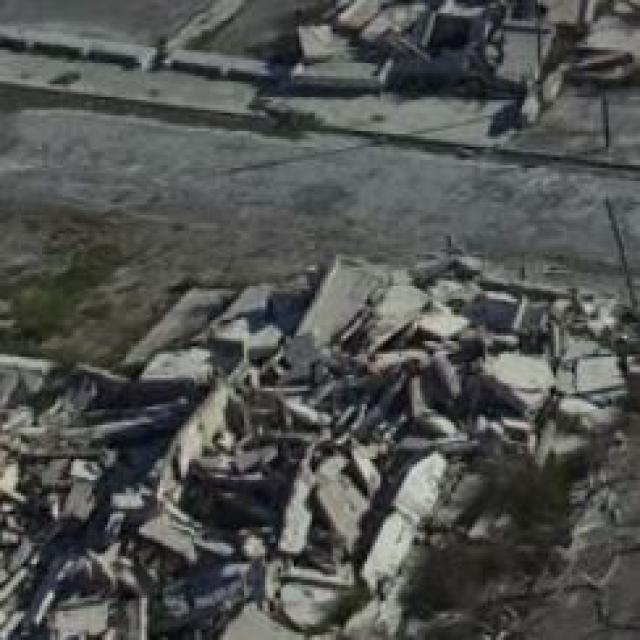collapsed_building: (0, 275, 637, 637)
